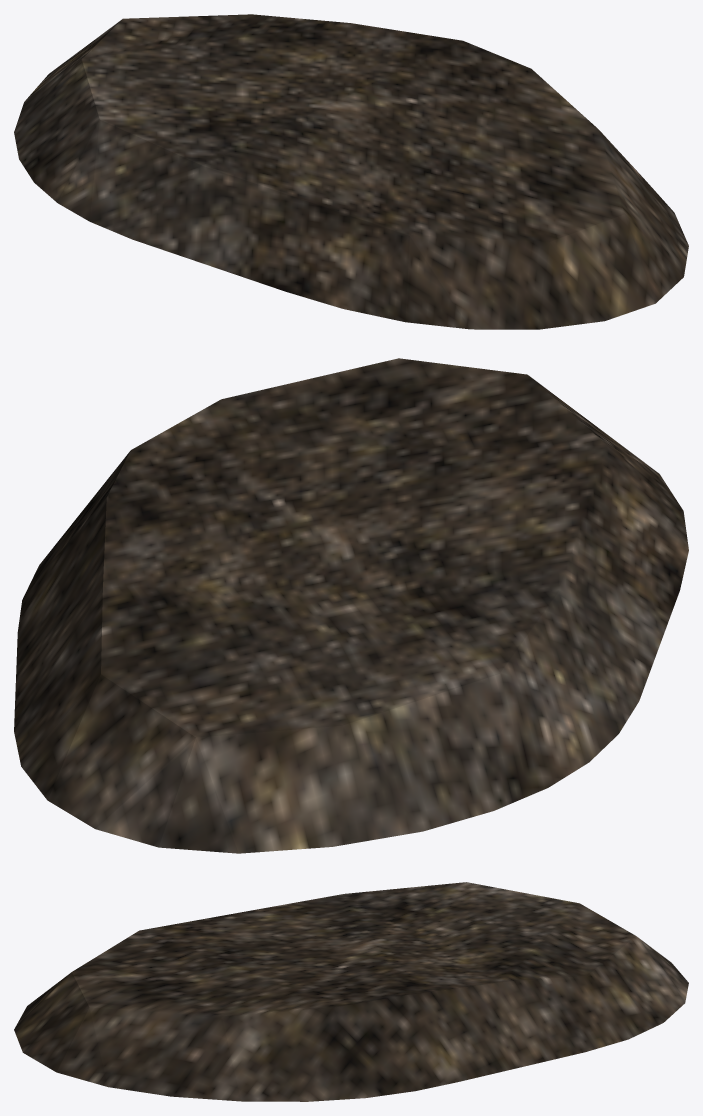
File: SM_TI_Slab_0.fbx
3 renders of one model, top to bottom at view 1: azimuth 30°, elevation 25°; view 2: azimuth 150°, elevation 25°; view 3: azimuth 270°, elevation 25°, orthographic. The views are drawn at different scales.
Visible parts, largest first — view 1: SM_TI_Slab_0; view 2: SM_TI_Slab_0; view 3: SM_TI_Slab_0.
Part boxes in pixels (left/top/right/bottom): SM_TI_Slab_0: left=14, top=14, right=688, bottom=329; SM_TI_Slab_0: left=14, top=358, right=688, bottom=853; SM_TI_Slab_0: left=14, top=882, right=688, bottom=1101.
Size of the model in its own units: 1.93 by 2.9 by 0.3429.
